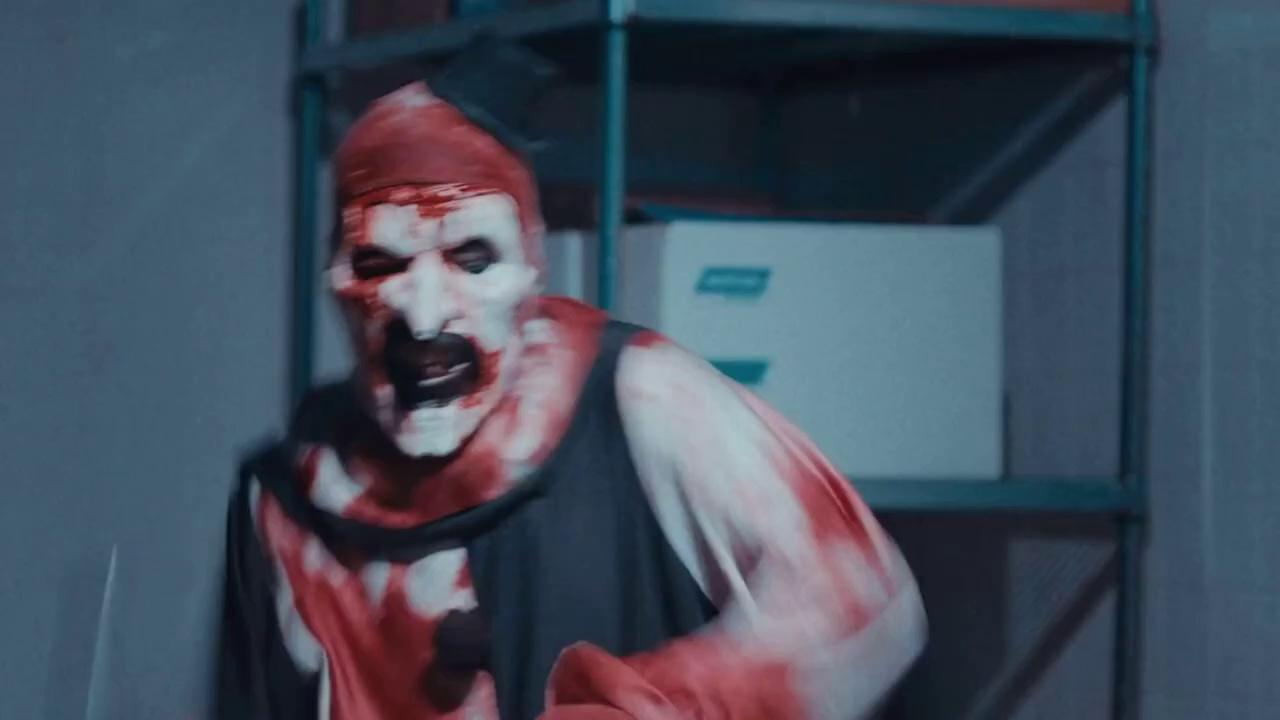Fire: (251, 82, 608, 719), (515, 332, 906, 718)
